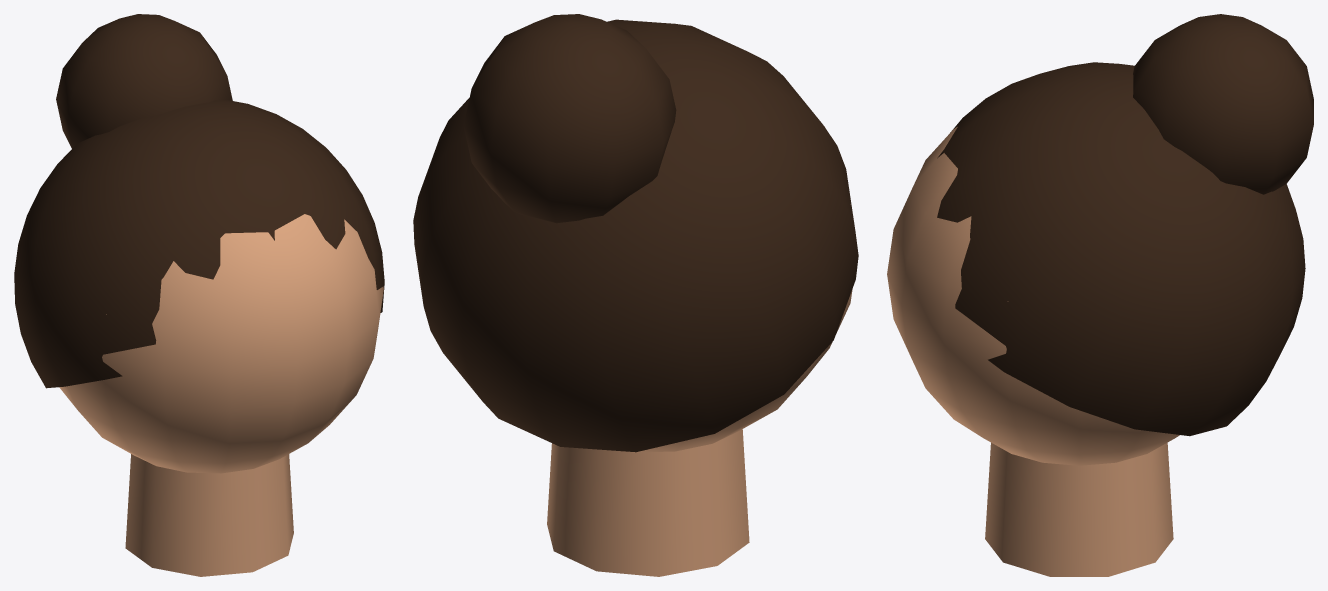
Rendered from head-mannequin-original.glb.
3 views of the same model, side by side, from view 1: azimuth 30°, elevation 25°; view 2: azimuth 150°, elevation 25°; view 3: azimuth 270°, elevation 25° (orthographic). The views are drawn at different scales.
Parts seen in each view (by area): view 1: Castell_Original_hair, Castell_Original_head, Castell_Original_neck, Castell_Original_bun; view 2: Castell_Original_hair, Castell_Original_bun, Castell_Original_neck, Castell_Original_head; view 3: Castell_Original_hair, Castell_Original_head, Castell_Original_bun, Castell_Original_neck.
Boxes of the visible parts, x1,y1,x2,y2 form: Castell_Original_hair: (14,100,384,388); Castell_Original_head: (59,214,383,473); Castell_Original_neck: (125,454,293,576); Castell_Original_bun: (56,14,232,148); Castell_Original_hair: (413,19,858,452); Castell_Original_bun: (463,14,676,223); Castell_Original_neck: (547,429,749,576); Castell_Original_head: (629,126,852,452); Castell_Original_hair: (937,62,1305,436); Castell_Original_head: (887,126,1179,465); Castell_Original_bun: (1133,14,1313,194); Castell_Original_neck: (985,442,1173,576).
Bounding box in the file's own units: 0.2157 × 0.302 × 0.2265.
